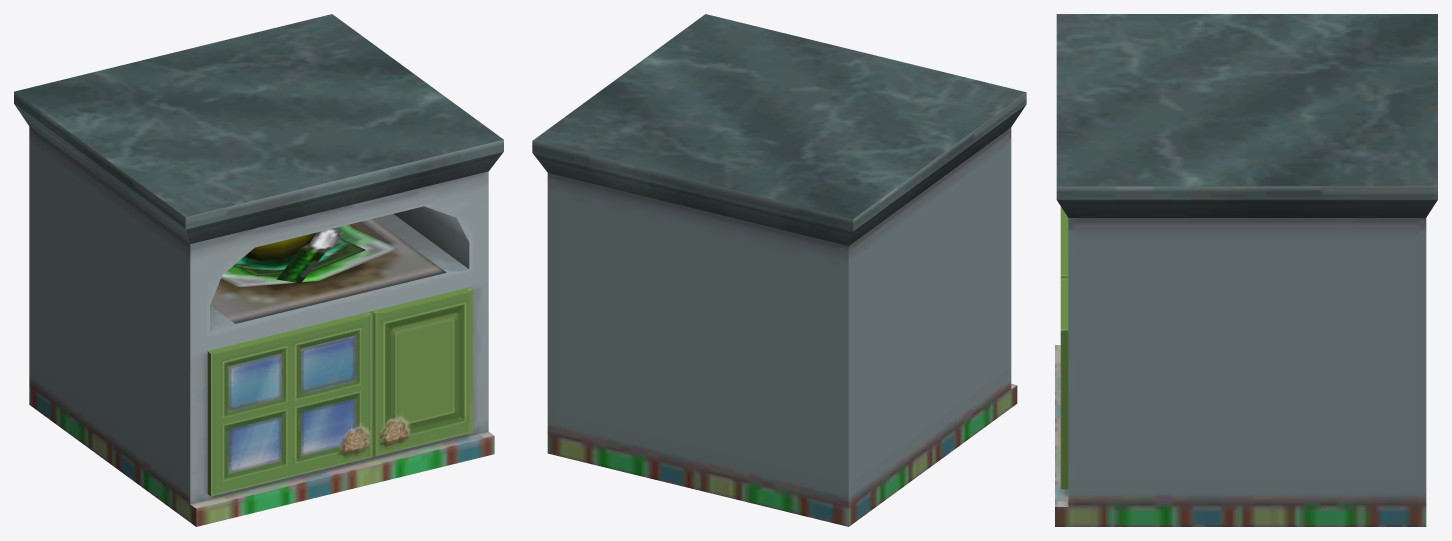
File: furni_0200621_02.FBX
3 views of the same model, side by side, from view 1: azimuth 30°, elevation 25°; view 2: azimuth 150°, elevation 25°; view 3: azimuth 270°, elevation 25° (orthographic). The views are drawn at different scales.
Parts seen in each view (by area): view 1: furni_0200621_02; view 2: furni_0200621_02; view 3: furni_0200621_02.
Boxes of the visible parts, left/top/right/bottom form: furni_0200621_02: left=14, top=14, right=503, bottom=526; furni_0200621_02: left=532, top=14, right=1026, bottom=526; furni_0200621_02: left=1055, top=14, right=1437, bottom=526.
Bounding box in the file's own units: 85.28 × 79.79 × 80.04.
1 material, 1 textured.
